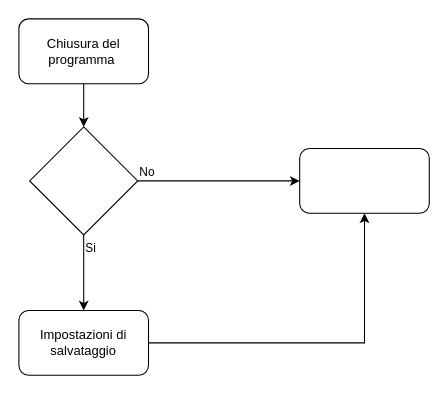
The diagram is 448 pixels wide and 394 high, and some of its shapes have lost their labels. The shapes that lost their labels are listed below. From the top down, each one's centre as x and y in pixels, then its label:
At [83,180]: "Salvataggio del disegno".
At [364,180]: "Chiudi programma".
